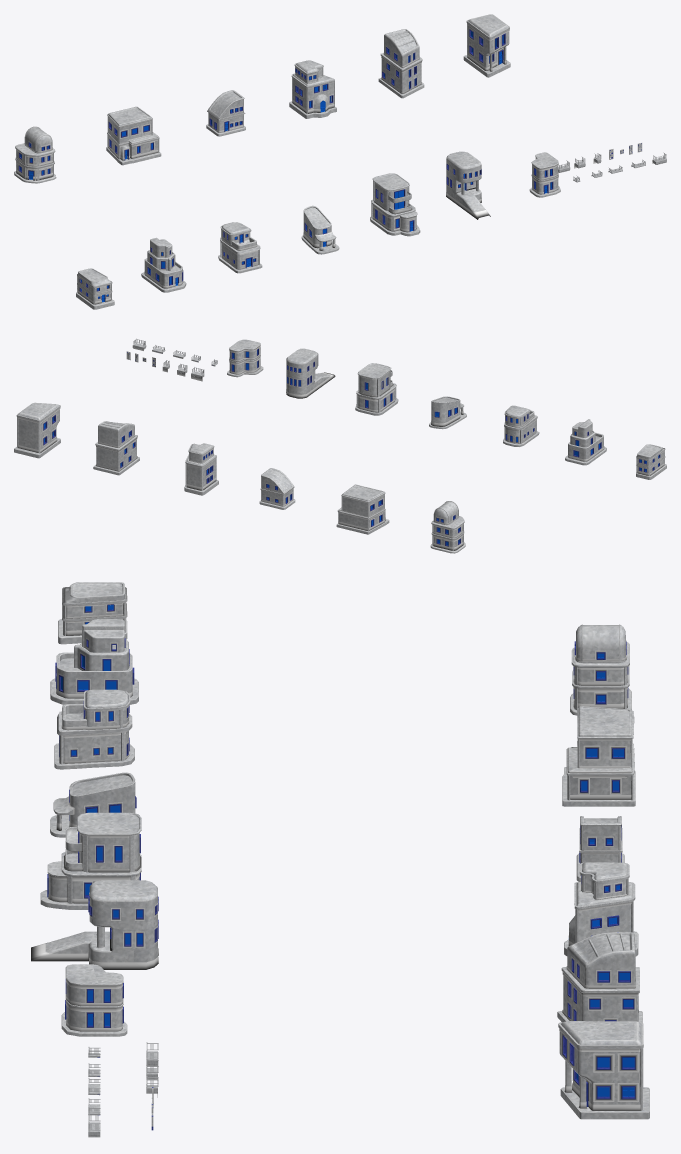
File: 05_buildinggroup2_obj.fbx
3 renders of one model, top to bottom at view 1: azimuth 30°, elevation 25°; view 2: azimuth 150°, elevation 25°; view 3: azimuth 270°, elevation 25°, orthographic. The views are drawn at different scales.
Parts seen in each view (by area): view 1: _05_building2_obj, _05_building5_obj, _05_building11_obj, _05_building6_obj, _05_building4_obj, _05_building12_obj, _05_building1_obj, _05_building9_obj, _05_building8_obj, _05_building3_obj, _05_building10_obj, _05_building7_obj (+8 smaller); view 2: _05_building6_obj, _05_building2_obj, _05_building5_obj, _05_building11_obj, _05_building12_obj, _05_building4_obj, _05_building1_obj, _05_building8_obj, _05_building9_obj, _05_building3_obj, _05_building13_obj, _05_building10_obj (+8 smaller); view 3: _05_building6_obj, _05_building12_obj, _05_building11_obj, _05_building5_obj, _05_building2_obj, _05_building9_obj, _05_building8_obj, _05_building4_obj, _05_building1_obj, _05_building13_obj, _05_building10_obj, _05_building7_obj (+9 smaller).
Part boxes in pixels (x1,y1,x2,y2): _05_building2_obj: (106,106,161,165); _05_building5_obj: (378,29,424,98); _05_building11_obj: (370,173,420,236); _05_building6_obj: (463,14,510,77); _05_building4_obj: (289,60,336,118); _05_building12_obj: (446,151,490,216); _05_building1_obj: (14,126,56,183); _05_building9_obj: (218,222,262,273); _05_building8_obj: (141,237,186,292); _05_building3_obj: (206,90,245,136); _05_building10_obj: (301,205,339,254); _05_building7_obj: (76,268,114,309); _05_building6_obj: (14,402,60,458); _05_building2_obj: (336,484,389,534); _05_building5_obj: (93,421,139,475); _05_building11_obj: (355,363,398,415); _05_building12_obj: (286,348,330,394); _05_building4_obj: (184,443,218,495); _05_building1_obj: (430,501,465,553); _05_building8_obj: (565,419,606,465); _05_building9_obj: (503,405,539,446); _05_building3_obj: (259,468,295,509); _05_building13_obj: (227,339,263,377); _05_building10_obj: (429,396,466,429); _05_building6_obj: (558,1021,649,1119); _05_building12_obj: (45,880,158,962); _05_building11_obj: (40,812,141,909); _05_building5_obj: (557,932,642,1022); _05_building2_obj: (562,706,635,806); _05_building9_obj: (54,689,134,769); _05_building8_obj: (50,619,138,704); _05_building4_obj: (564,862,638,956); _05_building1_obj: (570,624,631,715); _05_building13_obj: (61,964,127,1036); _05_building10_obj: (50,772,136,837); _05_building7_obj: (58,582,127,644).
Size of the model in its own units: 15914 by 1382 by 8126.
2 materials, 1 textured.
